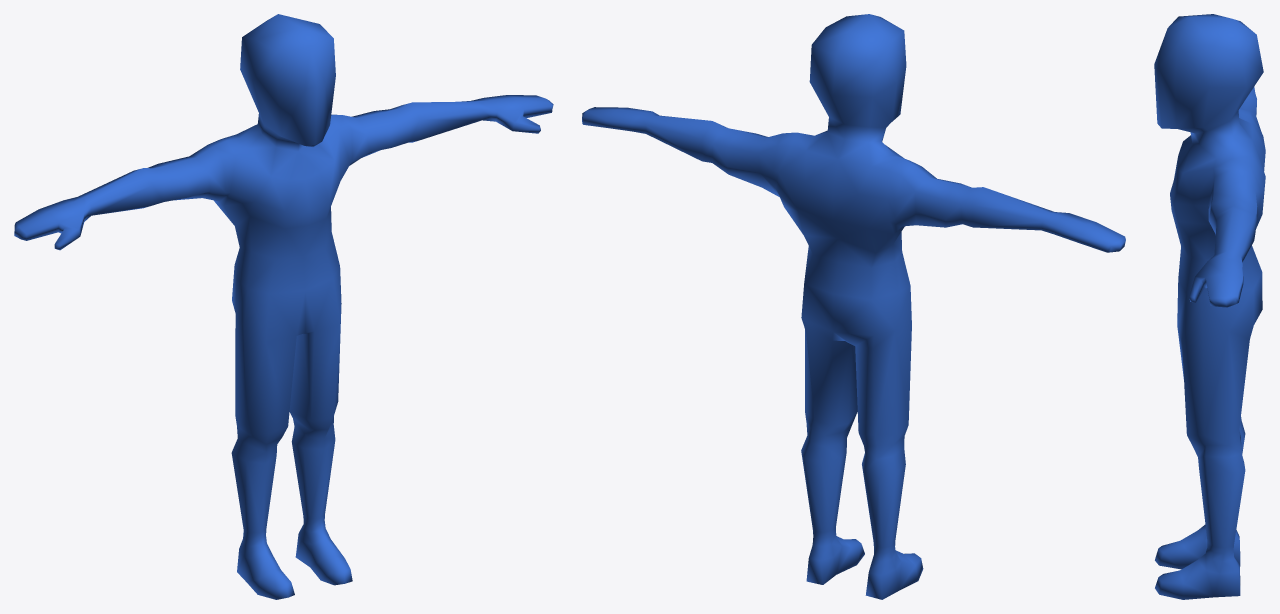
3 renders of one model, left to right at view 1: azimuth 30°, elevation 25°; view 2: azimuth 150°, elevation 25°; view 3: azimuth 270°, elevation 25°, orthographic.
Visible parts, largest first — view 1: stickman_update; view 2: stickman_update; view 3: stickman_update.
Part boxes in pixels (x1,y1,x2,y2): stickman_update: [14, 14, 553, 599]; stickman_update: [582, 14, 1125, 599]; stickman_update: [1154, 14, 1265, 599].
Bounding box in the file's own units: 89.75 × 88.86 × 16.01.
